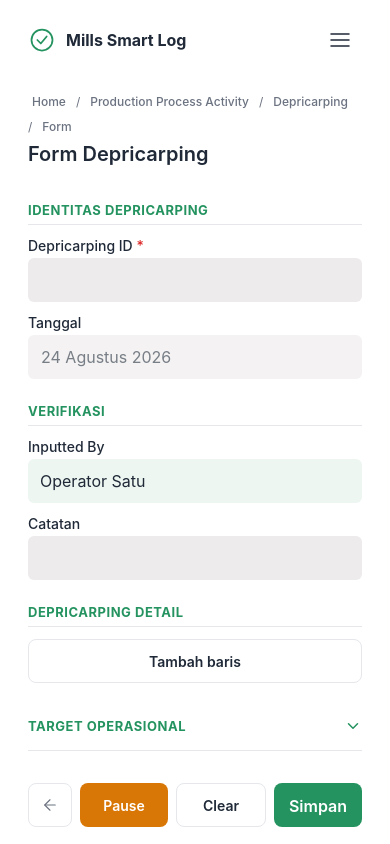
Test: FormDepricarpingView › shows inline error and does not save when Depricarping ID is empty on Simpan
The width and height of the screenshot is (390, 844).
Click the button with test id "save-button" at x=318, y=805, box [274,783,362,827]
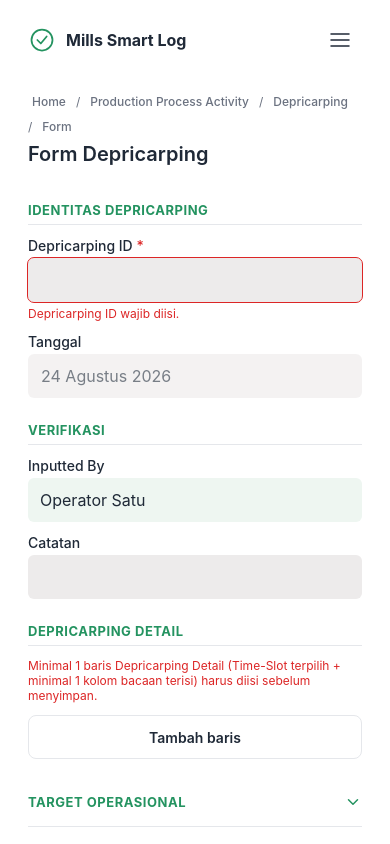
Expected: the text "Depricarping ID wajib diisi" is shown, [28,306,179,321]
